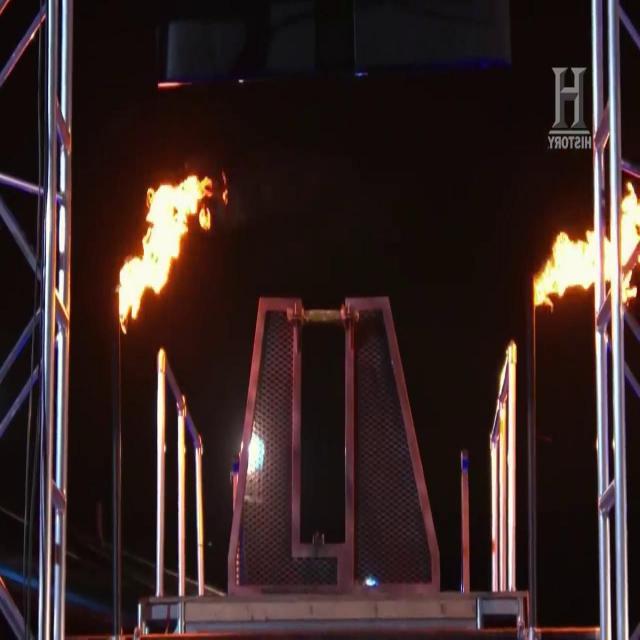fire: (112, 185, 216, 340), (533, 176, 634, 313)
